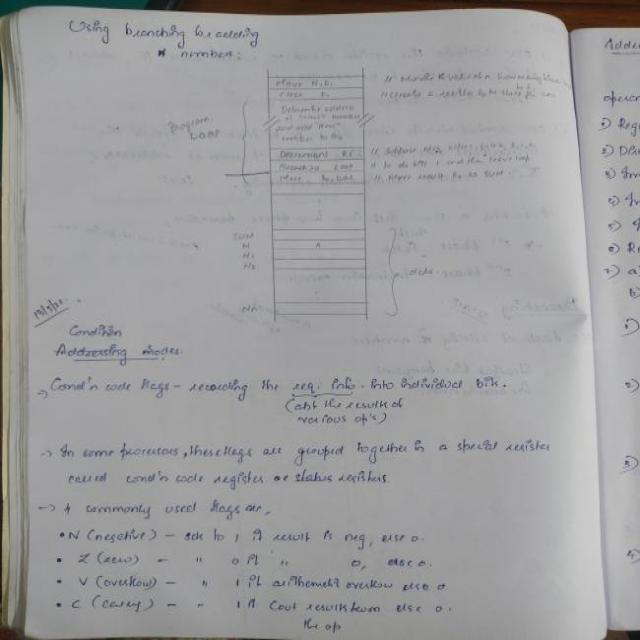Figure Detection - v3 Dataset Version2: (163, 66, 576, 332)
